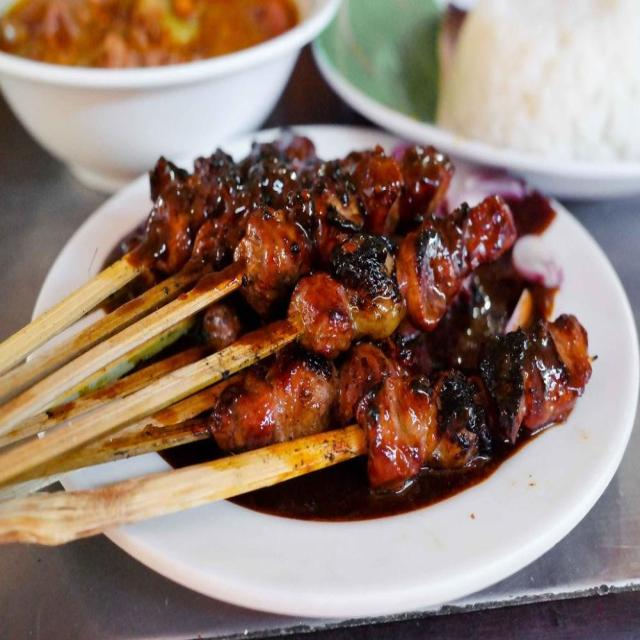Sate: (3, 161, 596, 524)
